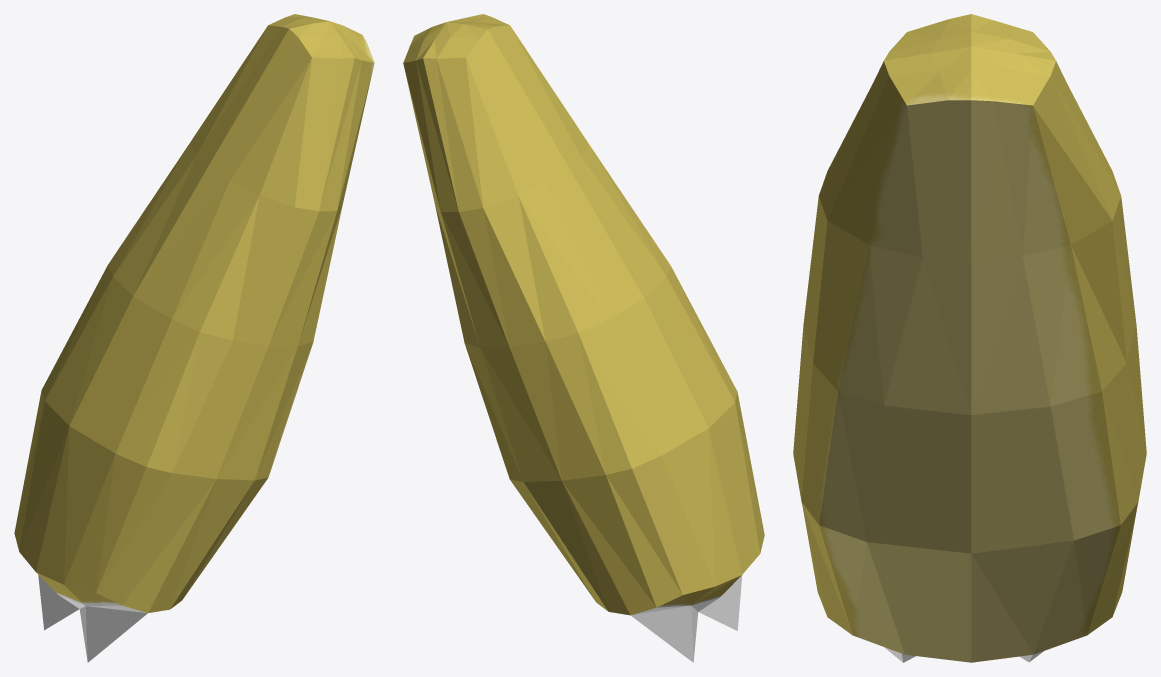
The model's file is float_R_arm_E.obj.
3 renders of one model, left to right at view 1: azimuth 30°, elevation 25°; view 2: azimuth 150°, elevation 25°; view 3: azimuth 270°, elevation 25°, orthographic. The views are drawn at different scales.
Parts seen in each view (by area): view 1: 立方体.002; view 2: 立方体.002; view 3: 立方体.002.
Part boxes in pixels (box(x1,y1,x2,y2)): 立方体.002: box(14, 14, 374, 662); 立方体.002: box(403, 14, 764, 662); 立方体.002: box(793, 14, 1146, 662).
Bounding box in the file's own units: 0.8621 × 1.42 × 0.5631.
